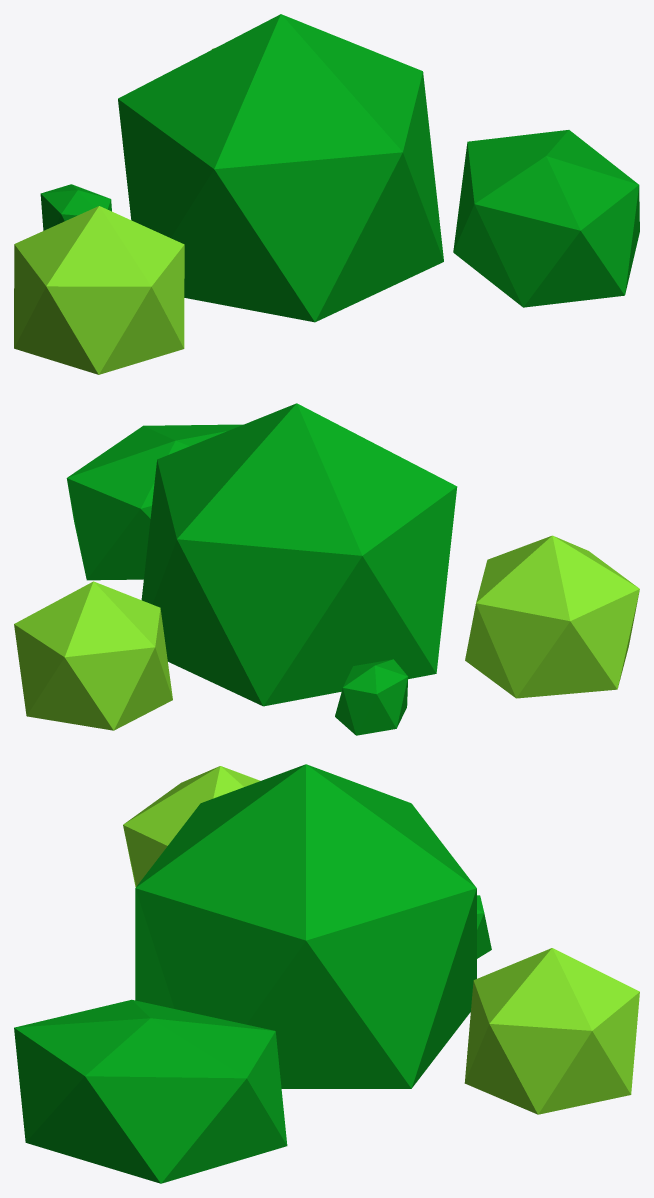
Rendered from Bushes01.fbx.
The picture shows the model from 3 angles, top to bottom: view 1: azimuth 30°, elevation 25°; view 2: azimuth 150°, elevation 25°; view 3: azimuth 270°, elevation 25°; orthographic projection. The views are drawn at different scales.
Parts seen in each view (by area): view 1: BigBush, AverageBush, MediumBush, TinyBush; view 2: BigBush, MediumBush, SmallBush, AverageBush, TinyBush; view 3: BigBush, AverageBush, SmallBush, MediumBush, TinyBush.
Part boxes in pixels (x1,y1,x2,y2): BigBush: (118,14,443,322); AverageBush: (453,130,639,307); MediumBush: (14,206,184,374); TinyBush: (40,184,111,230); BigBush: (141,403,457,706); MediumBush: (465,535,639,698); SmallBush: (14,581,172,730); AverageBush: (66,424,243,580); TinyBush: (335,659,408,735); BigBush: (135,764,476,1088); AverageBush: (14,999,287,1183); SmallBush: (464,948,639,1114); MediumBush: (123,766,260,887); TinyBush: (477,895,491,958).
Size of the model in its own units: 186 by 72.36 by 156.
